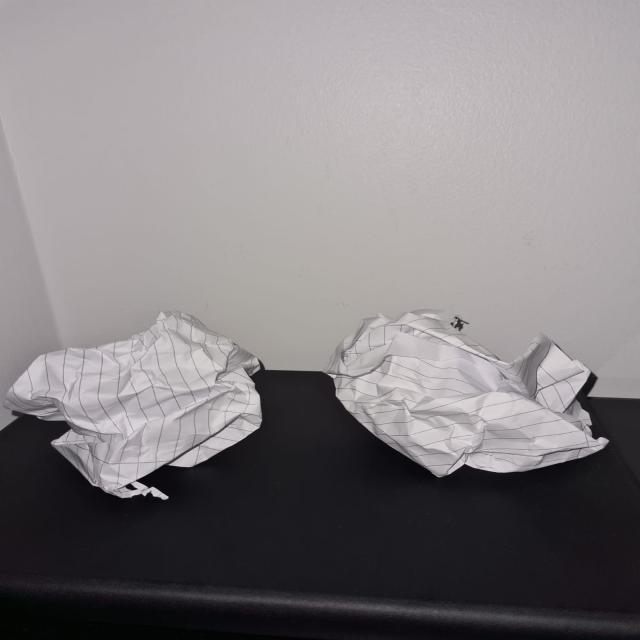Paper: (9, 312, 264, 501), (332, 311, 612, 477)
